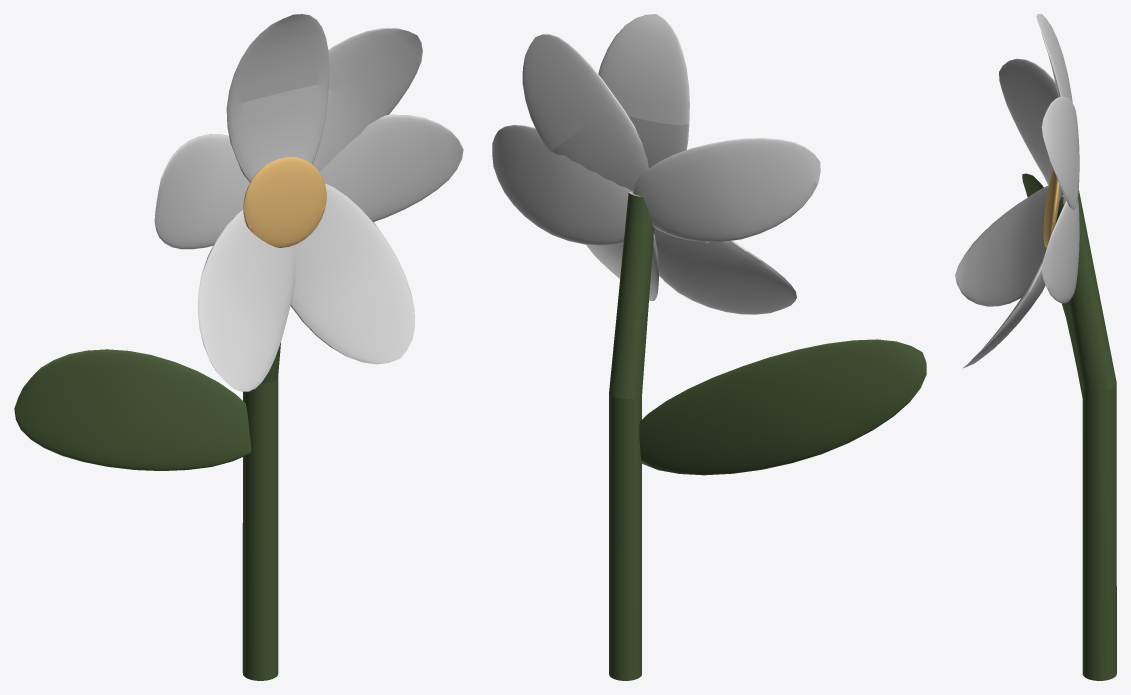
Rendered from flower1.fbx.
3 renders of one model, left to right at view 1: azimuth 30°, elevation 25°; view 2: azimuth 150°, elevation 25°; view 3: azimuth 270°, elevation 25°, orthographic. The views are drawn at different scales.
Parts seen in each view (by area): view 1: Cylinder; view 2: Cylinder; view 3: Cylinder.
Part boxes in pixels (x1=…): Cylinder: x1=14, y1=14, x2=463, y2=680; Cylinder: x1=492, y1=14, x2=926, y2=680; Cylinder: x1=955, y1=14, x2=1116, y2=680.
Size of the model in its own units: 130 by 408 by 582.
